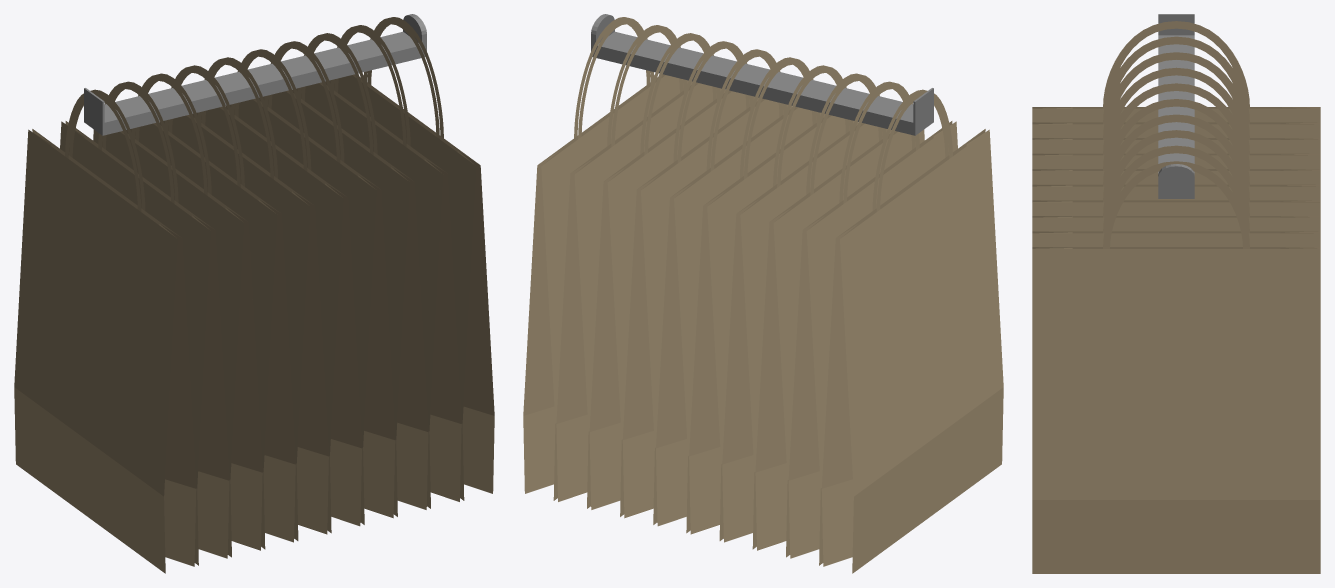
Rendered from sackspawner.fbx.
The picture shows the model from 3 angles, left to right: view 1: azimuth 30°, elevation 25°; view 2: azimuth 150°, elevation 25°; view 3: azimuth 270°, elevation 25°; orthographic projection. The views are drawn at different scales.
Visible parts, largest first — view 1: Cube.001, Cube.002, Cube.003, Cube.007, Cube.006, Cube.004, Cube.005, Cube.009, Cube.010, Cube.008, Cube; view 2: Cube.001, Cube.002, Cube.003, Cube.007, Cube.006, Cube.004, Cube.005, Cube.009, Cube.010, Cube.008, Cube; view 3: Cube.010, Cube.009, Cube.008, Cube.007, Cube.006, Cube.005, Cube.003, Cube.004, Cube.002, Cube.001, Cube.
Part boxes in pixels (x1,y1,x2,y2): Cube.001: (14,89,196,573); Cube.002: (60,81,229,565); Cube.003: (93,73,262,557); Cube.007: (226,41,395,524); Cube.006: (192,49,361,533); Cube.004: (126,65,295,549); Cube.005: (159,57,328,540); Cube.009: (292,25,461,508); Cube.010: (325,17,494,500); Cube.008: (259,33,428,516); Cube: (84,14,426,135); Cube.001: (821,89,1003,573); Cube.002: (788,81,957,565); Cube.003: (755,73,924,557); Cube.007: (622,41,791,524); Cube.006: (656,49,825,533); Cube.004: (722,65,891,549); Cube.005: (689,57,858,540); Cube.009: (556,25,725,508); Cube.010: (523,17,692,500); Cube.008: (589,33,758,516); Cube: (591,14,933,135); Cube.010: (1032,161,1320,573); Cube.009: (1032,145,1320,246); Cube.008: (1032,130,1320,231); Cube.007: (1032,114,1320,215); Cube.006: (1032,99,1320,200); Cube.005: (1032,83,1320,184); Cube.003: (1032,52,1320,153); Cube.004: (1032,67,1320,168); Cube.002: (1032,36,1320,137); Cube.001: (1032,21,1320,122); Cube: (1158,14,1194,198).
Bounding box in the file's own units: 50.96 × 62.37 × 40.
